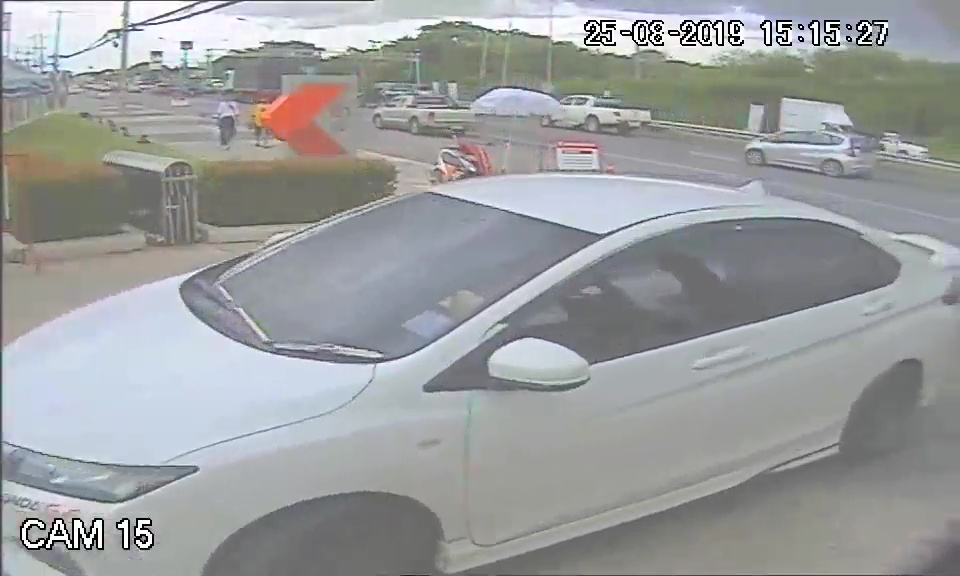sedan: (2, 175, 709, 557)
